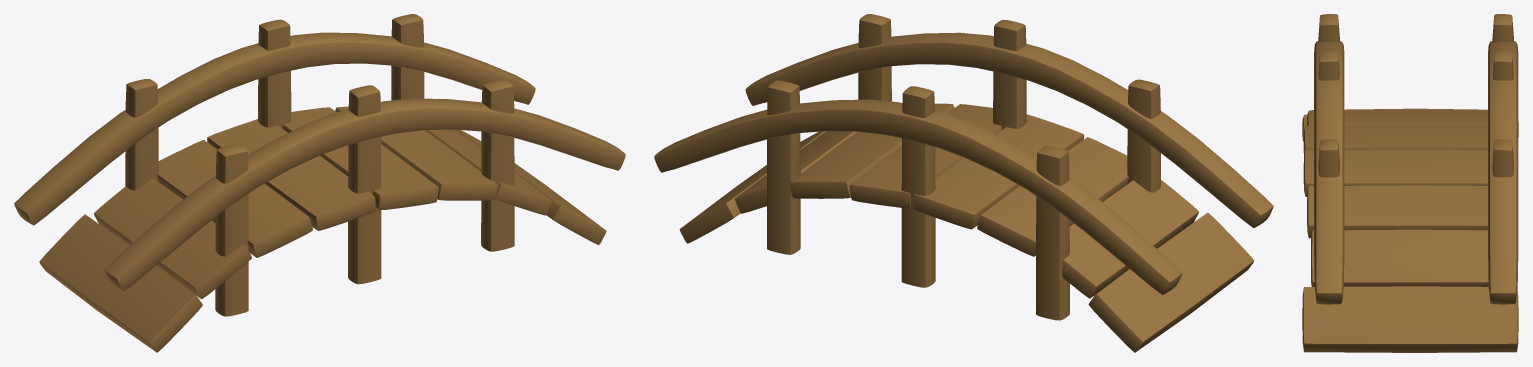
The model's file is bridge.glb.
The picture shows the model from 3 angles, left to right: view 1: azimuth 30°, elevation 25°; view 2: azimuth 150°, elevation 25°; view 3: azimuth 270°, elevation 25°; orthographic projection. The views are drawn at different scales.
Parts seen in each view (by area): view 1: Bridge_Small; view 2: Bridge_Small; view 3: Bridge_Small.
Part boxes in pixels (box(x1,y1,x2,y2)): Bridge_Small: box(14, 14, 625, 352); Bridge_Small: box(654, 14, 1273, 352); Bridge_Small: box(1302, 14, 1518, 352).
Bounding box in the file's own units: 6 × 2.26 × 2.28.
